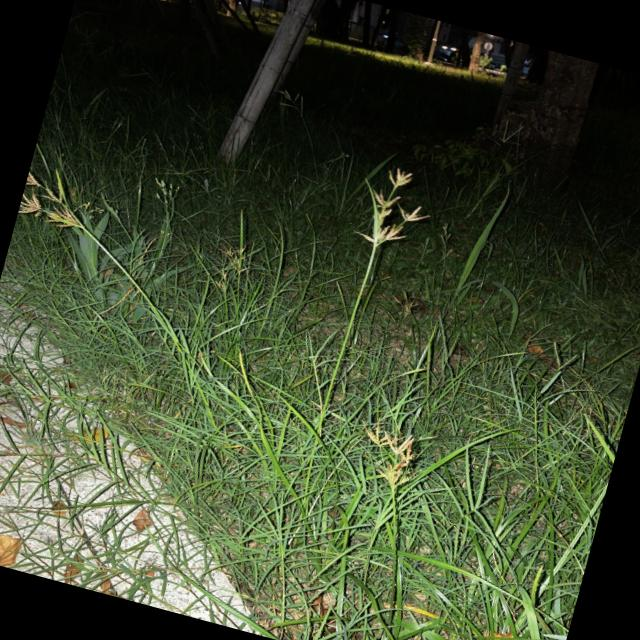cyperus: (342, 156, 438, 258), (342, 410, 430, 493), (16, 161, 102, 239), (206, 238, 260, 300), (270, 84, 312, 116)
